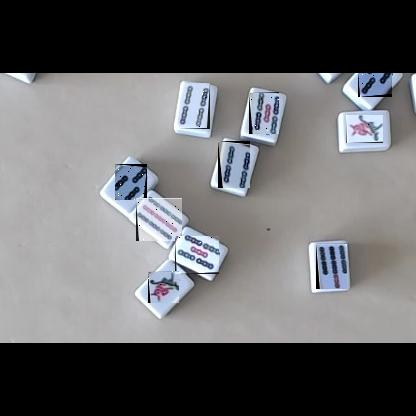1s: (346, 115, 383, 143), (148, 271, 179, 303)
3s: (115, 164, 147, 200), (358, 73, 392, 97)
4s: (218, 141, 250, 188), (180, 83, 210, 129)
5s: (175, 236, 219, 274), (249, 92, 279, 134)
7s: (316, 243, 347, 289)
9s: (136, 198, 182, 241)
